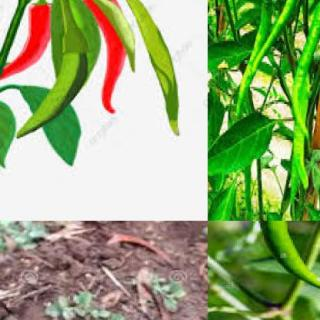green_chilli: (14, 49, 94, 140), (246, 0, 312, 89), (251, 221, 319, 302), (233, 0, 276, 125), (290, 0, 319, 110), (295, 77, 311, 199)
